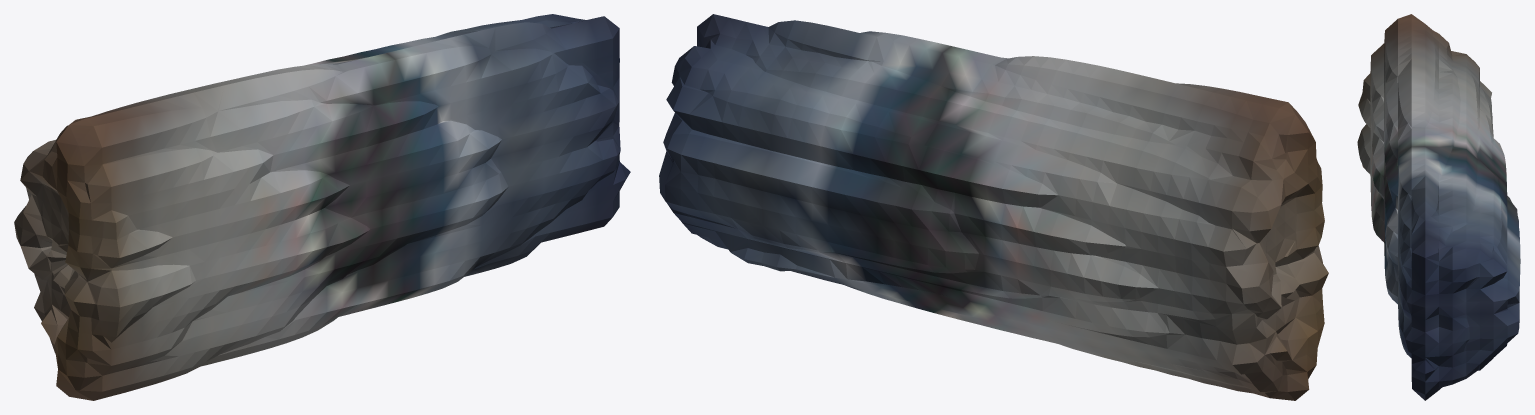
The model's file is producto-020.glb.
3 views of the same model, side by side, from view 1: azimuth 30°, elevation 25°; view 2: azimuth 150°, elevation 25°; view 3: azimuth 270°, elevation 25° (orthographic). The views are drawn at different scales.
Parts seen in each view (by area): view 1: world; view 2: world; view 3: world.
Boxes of the visible parts, box(x1,y1,x2,y2) form: world: box(14, 14, 630, 400); world: box(659, 14, 1328, 400); world: box(1357, 14, 1520, 400).
Size of the model in its own units: 1.04 by 0.4689 by 0.3285.
